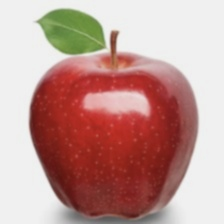apple: (42, 9, 179, 184)
